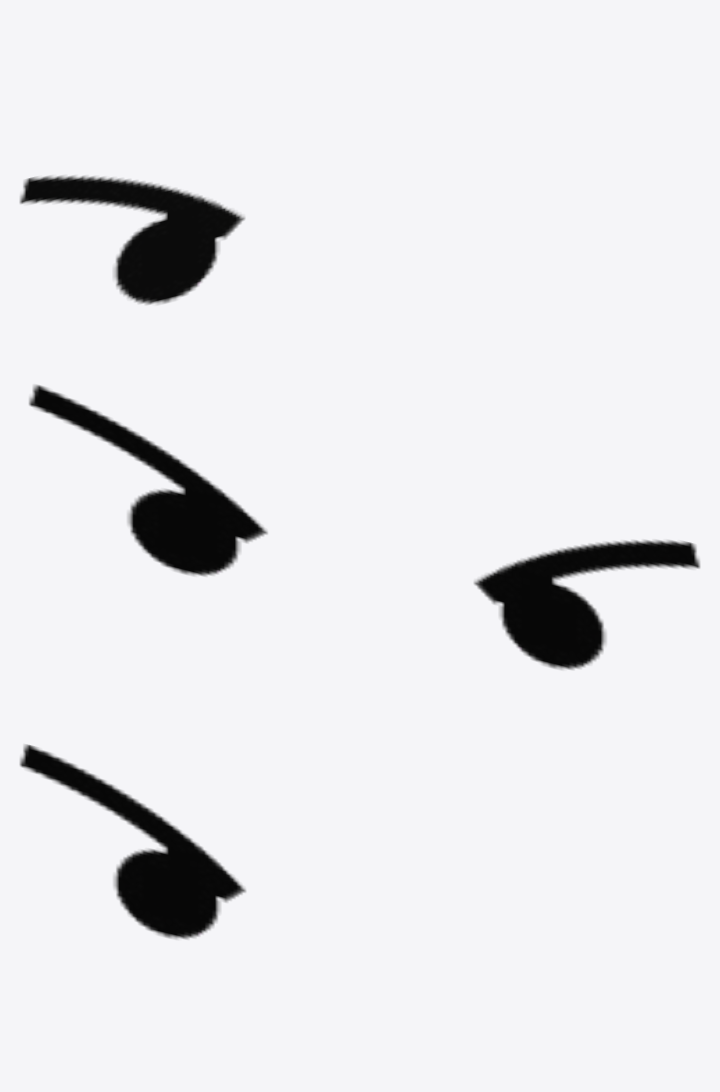
File: occhi_arrabbiati.glb
The picture shows the model from 3 angles, top to bottom: view 1: azimuth 30°, elevation 25°; view 2: azimuth 150°, elevation 25°; view 3: azimuth 330°, elevation 25°; orthographic projection.
Visible parts, largest first — view 1: mastro_occhi.002; view 2: mastro_occhi.002; view 3: mastro_occhi.002.
Part boxes in pixels (box(x1,y1,x2,y2)): mastro_occhi.002: box(20, 175, 244, 304); mastro_occhi.002: box(29, 385, 699, 669); mastro_occhi.002: box(20, 744, 245, 939).
Bounding box in the file's own units: 0.1329 × 0.0305 × 0.000933.
Materials: 1 (1 with a texture image).
